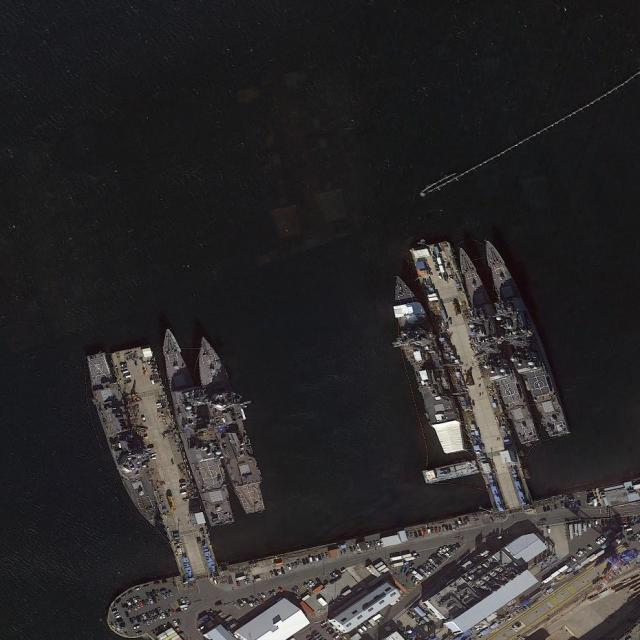Cruiser: (475, 233, 571, 442), (153, 325, 237, 530), (454, 244, 537, 448)
Destroyer: (379, 270, 467, 460), (186, 328, 273, 519), (81, 349, 161, 531)
Dock: (409, 236, 532, 513), (111, 343, 220, 579)
Other Ship: (422, 460, 481, 484)
